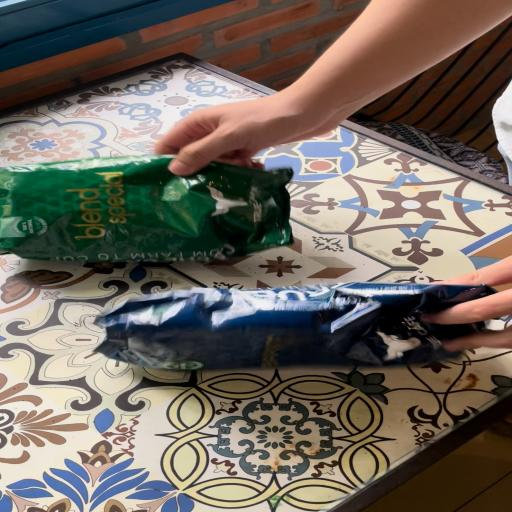cafe_hat: (95, 282, 495, 370)
cafe_xay: (0, 155, 292, 263)
